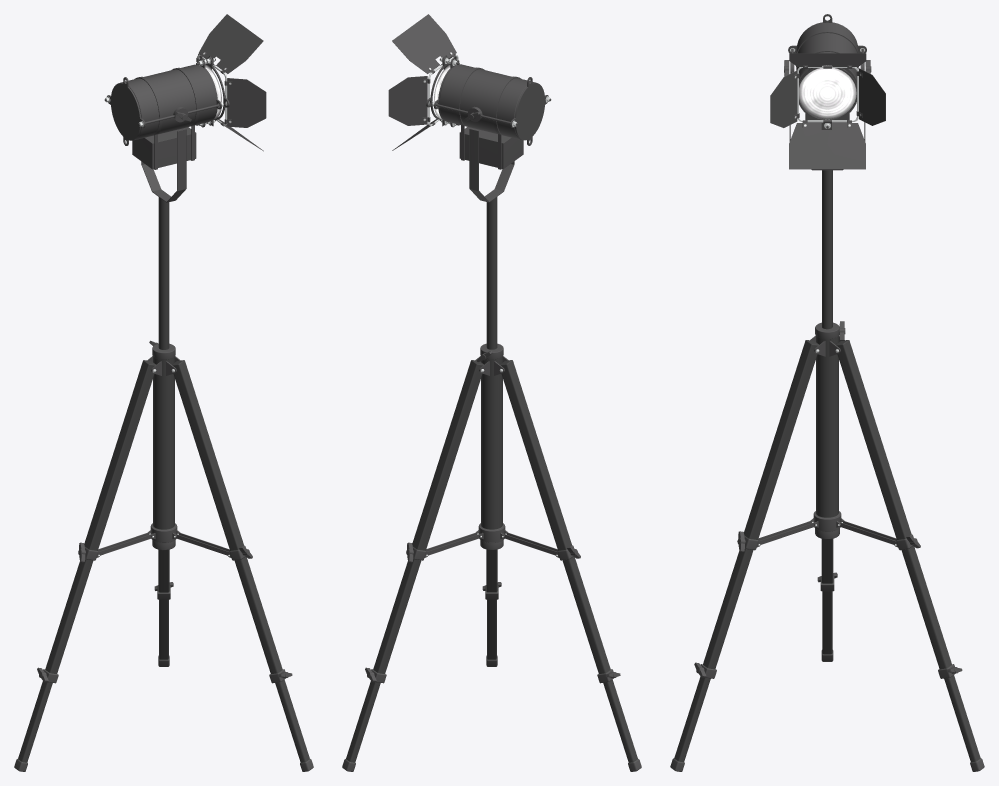
The model's file is Tripé-com-spot-grande.glb.
3 views of the same model, side by side, from view 1: azimuth 30°, elevation 25°; view 2: azimuth 150°, elevation 25°; view 3: azimuth 270°, elevation 25° (orthographic). The views are drawn at different scales.
Visible parts, largest first — view 1: Tripod_Spotlight_Tall, Tripod_Spotlight_Light, Tripod_Spotlight_Arm, Tripod_Spotlight_Wing_Top, Tripod_Spotlight_Wing_Left; view 2: Tripod_Spotlight_Tall, Tripod_Spotlight_Light, Tripod_Spotlight_Arm, Tripod_Spotlight_Wing_Top, Tripod_Spotlight_Wing_Right; view 3: Tripod_Spotlight_Tall, Tripod_Spotlight_Wing_Bottom, Tripod_Spotlight_Light, Tripod_Spotlight_Glass, Tripod_Spotlight_Arm, Tripod_Spotlight_Wing_Left, Tripod_Spotlight_Wing_Right, Tripod_Spotlight_Wing_Top.
Part boxes in pixels (<box>): Tripod_Spotlight_Tall: <box>14,340,313,771</box>; Tripod_Spotlight_Light: <box>104,54,229,169</box>; Tripod_Spotlight_Arm: <box>141,129,186,349</box>; Tripod_Spotlight_Wing_Top: <box>199,14,263,73</box>; Tripod_Spotlight_Wing_Left: <box>224,78,266,127</box>; Tripod_Spotlight_Tall: <box>342,343,641,771</box>; Tripod_Spotlight_Light: <box>426,55,551,169</box>; Tripod_Spotlight_Arm: <box>469,128,514,349</box>; Tripod_Spotlight_Wing_Top: <box>392,14,456,73</box>; Tripod_Spotlight_Wing_Right: <box>388,76,430,125</box>; Tripod_Spotlight_Tall: <box>670,321,984,771</box>; Tripod_Spotlight_Wing_Bottom: <box>789,120,865,169</box>; Tripod_Spotlight_Light: <box>784,14,871,129</box>; Tripod_Spotlight_Glass: <box>799,68,856,119</box>; Tripod_Spotlight_Arm: <box>789,122,865,329</box>; Tripod_Spotlight_Wing_Left: <box>770,70,799,127</box>; Tripod_Spotlight_Wing_Right: <box>856,68,885,125</box>; Tripod_Spotlight_Wing_Top: <box>789,53,866,68</box>.
Size of the model in its own units: 0.6241 by 1.79 by 0.706.
1 material, 1 textured.
